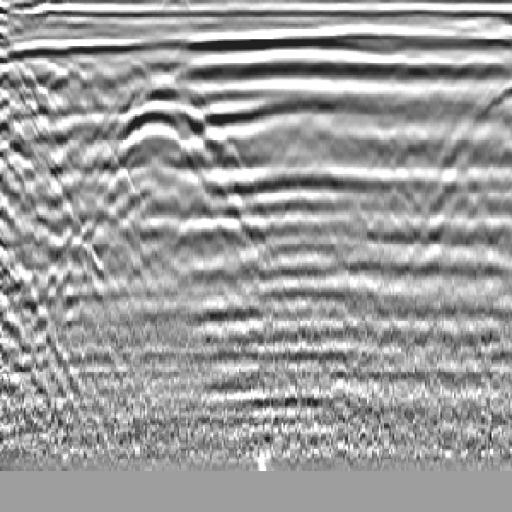metalic: (88, 68, 241, 180), (467, 47, 512, 138)
